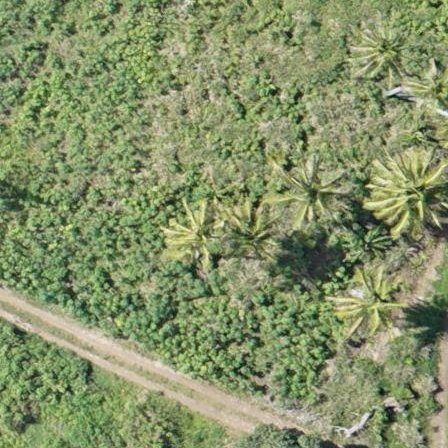palm_tree: (363, 146, 448, 240), (329, 253, 413, 343), (270, 154, 350, 230), (160, 199, 228, 271), (347, 23, 414, 84), (212, 201, 276, 260)
